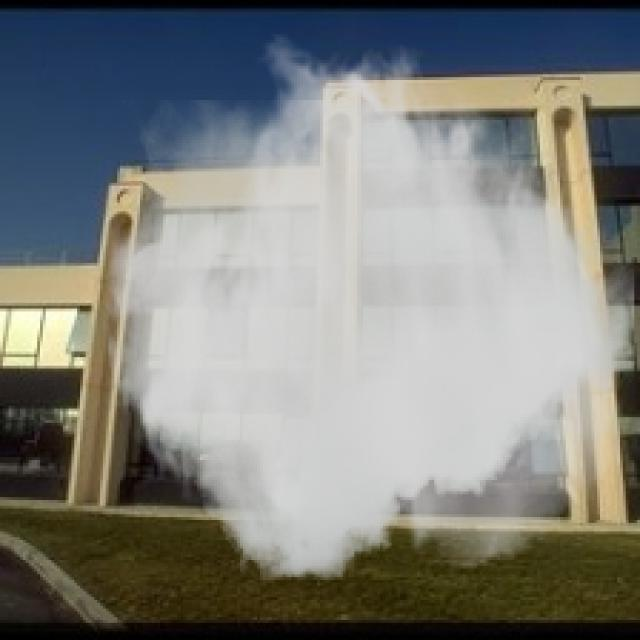Smoke: (100, 31, 634, 580)
